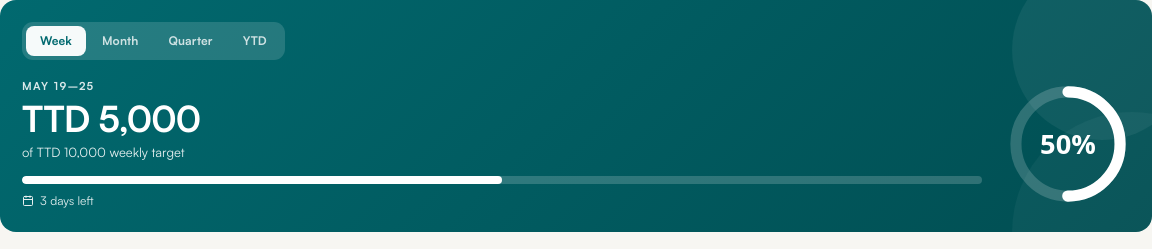
Test: GoalCarousel — tab click switching › shows Month period content after clicking Month tab
Click the tab "Month" at (120, 41), box [88,26,152,56]
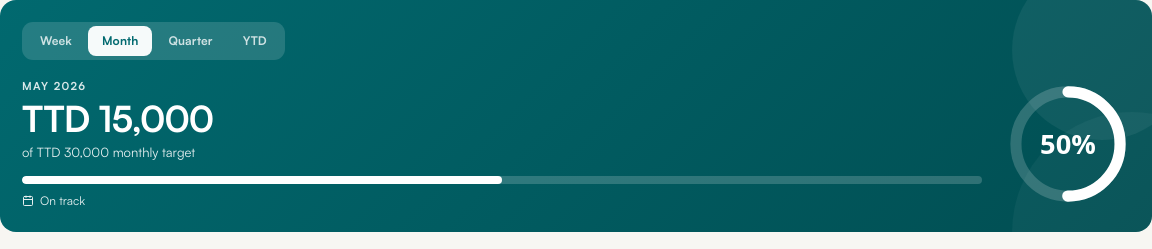
expect the text "May 2026" is shown: met, box [22,79,86,93]
